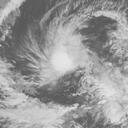cyclone: (24, 32, 87, 86)
